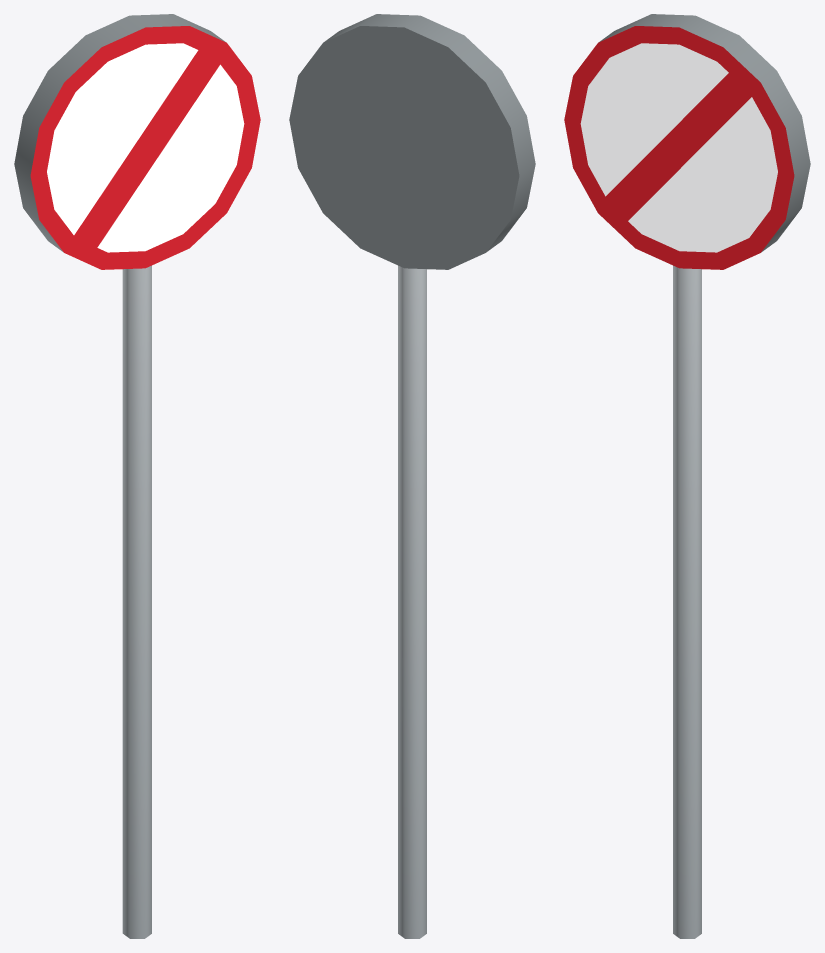
File: Road_Sign_02.glb
The picture shows the model from 3 angles, left to right: view 1: azimuth 30°, elevation 25°; view 2: azimuth 150°, elevation 25°; view 3: azimuth 330°, elevation 25°; orthographic projection.
Visible parts, largest first — view 1: Road_Sign_02; view 2: Road_Sign_02; view 3: Road_Sign_02.
Boxes of the visible parts, left/top/right/bottom form: Road_Sign_02: left=14, top=14, right=260, bottom=938; Road_Sign_02: left=289, top=14, right=535, bottom=938; Road_Sign_02: left=564, top=14, right=810, bottom=938.
Bounding box in the file's own units: 0.7311 × 2.77 × 0.103.
Materials: 1 (1 with a texture image).
